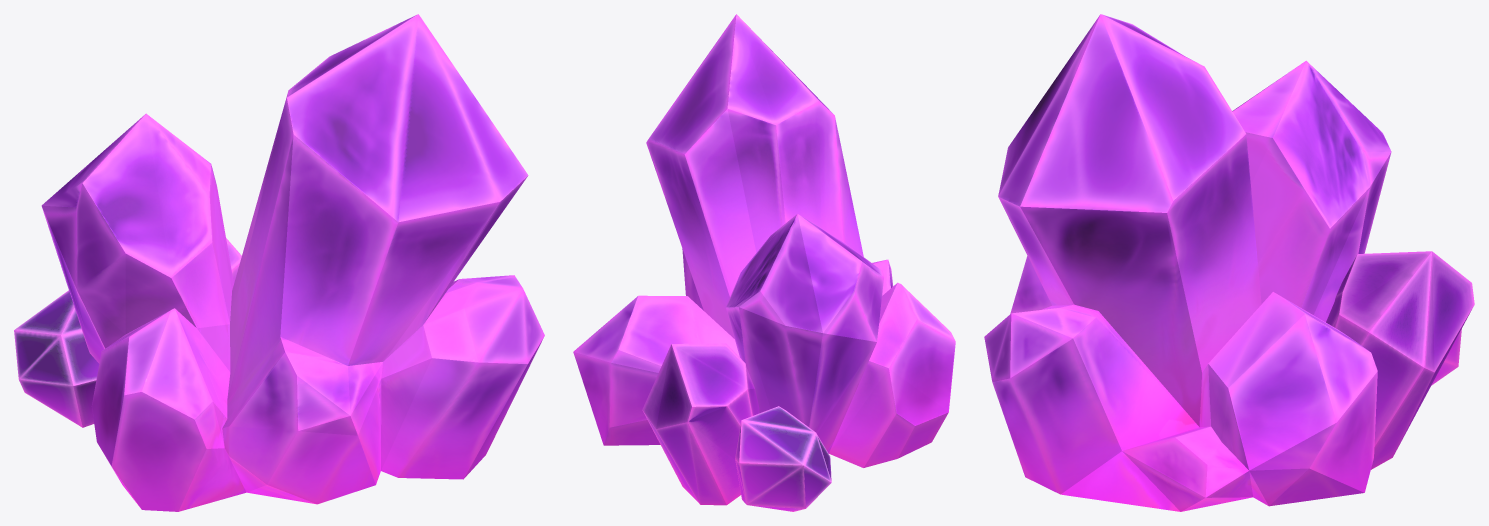
File: crystal_chunk_002.fbx
3 renders of one model, left to right at view 1: azimuth 30°, elevation 25°; view 2: azimuth 150°, elevation 25°; view 3: azimuth 270°, elevation 25°, orthographic. The views are drawn at different scales.
Visible parts, largest first — view 1: crystal_white.017; view 2: crystal_white.017; view 3: crystal_white.017.
Boxes of the visible parts, x1=… form: crystal_white.017: x1=14, y1=14, x2=544, y2=511; crystal_white.017: x1=573, y1=14, x2=955, y2=511; crystal_white.017: x1=984, y1=14, x2=1474, y2=511.
Size of the model in its own units: 12.17 by 13.58 by 12.22.
